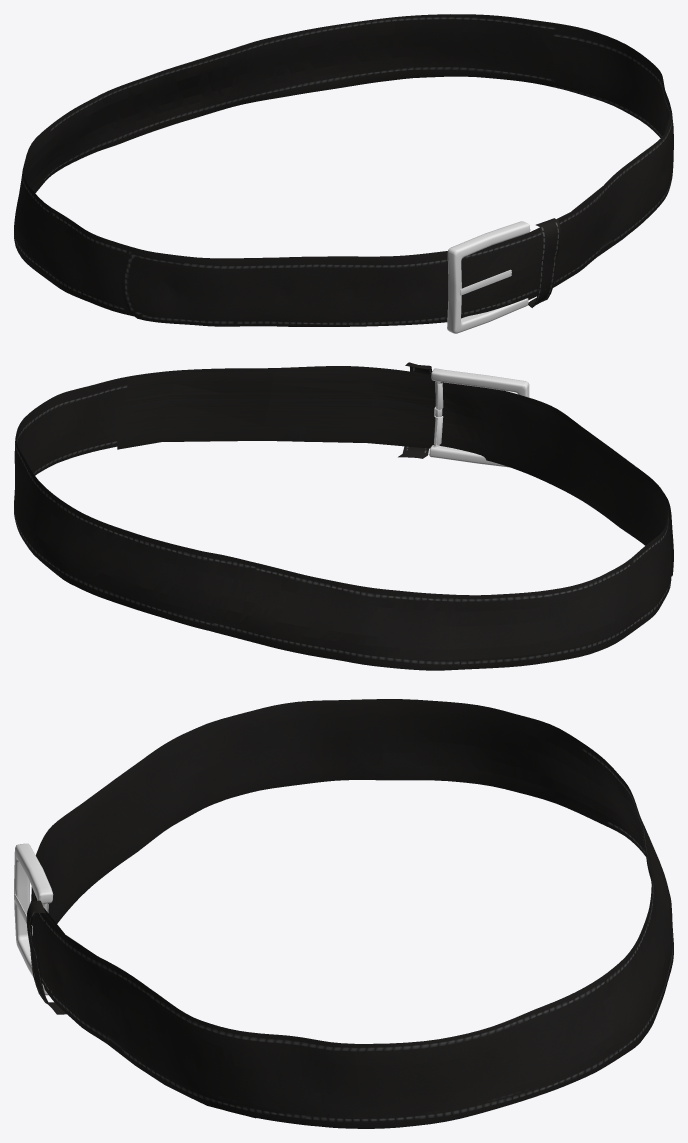
The model's file is belt.glb.
3 renders of one model, top to bottom at view 1: azimuth 30°, elevation 25°; view 2: azimuth 150°, elevation 25°; view 3: azimuth 270°, elevation 25°, orthographic. The views are drawn at different scales.
Parts seen in each view (by area): view 1: belt.003; view 2: belt.003; view 3: belt.003.
Part boxes in pixels (<box>): belt.003: <box>14,14,673,333</box>; belt.003: <box>14,362,673,670</box>; belt.003: <box>14,699,673,1128</box>.
Bounding box in the file's own units: 32.88 × 4.83 × 25.62.
2 materials, 1 textured.
